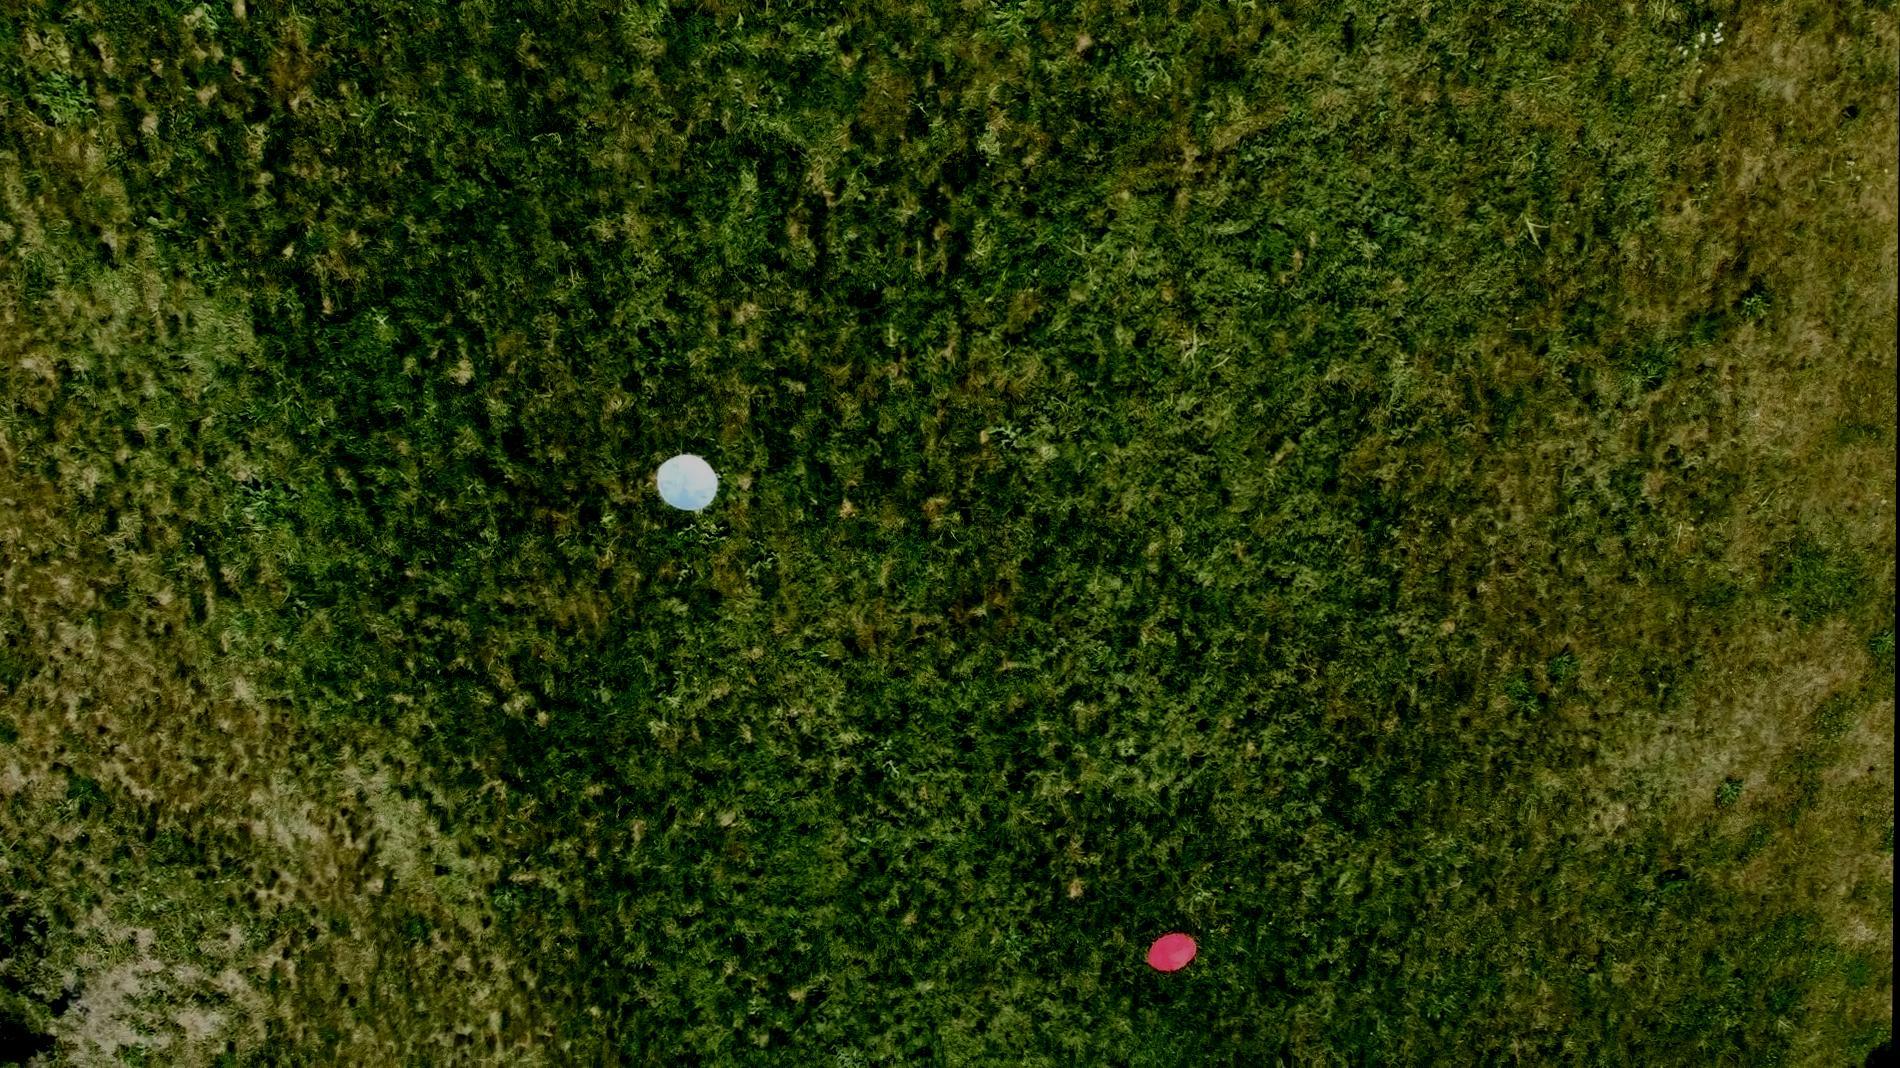Blue: (652, 449, 722, 514)
Red: (1147, 928, 1202, 977)
